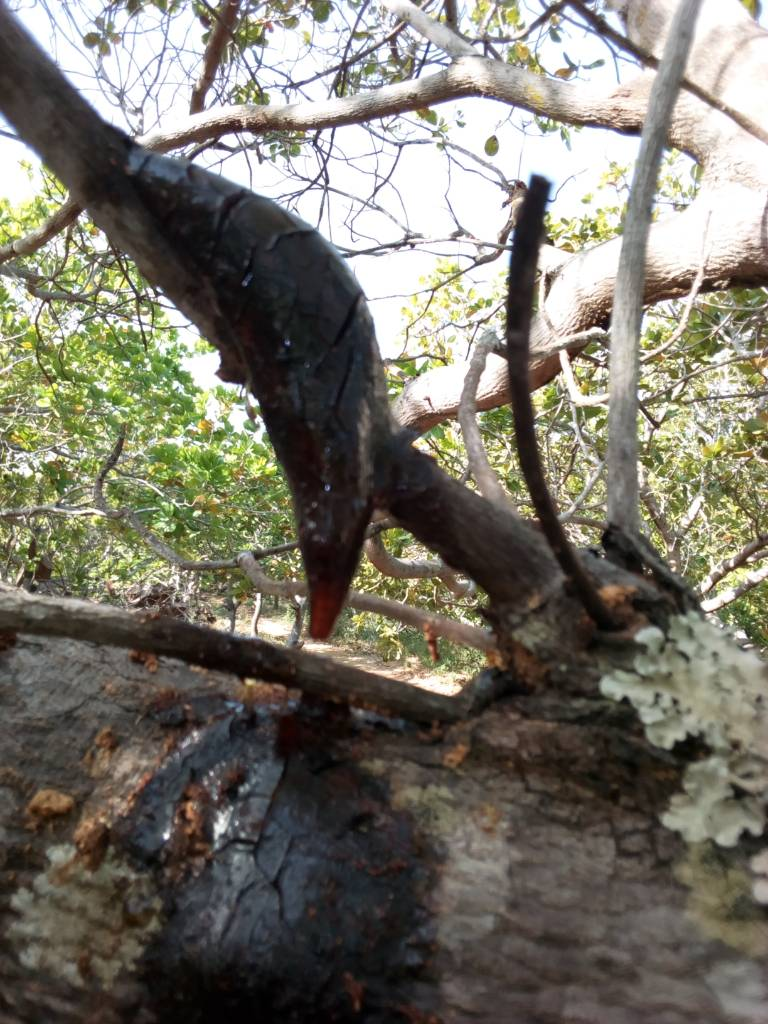Gommose: (127, 707, 436, 1024)
